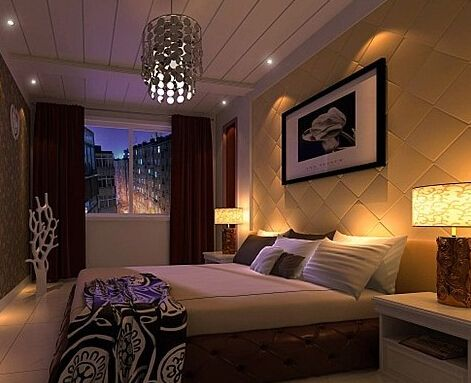床: (70, 269, 416, 376)
枕头: (238, 232, 403, 296)
灯: (410, 182, 470, 312), (140, 8, 205, 105), (210, 205, 244, 256), (215, 98, 228, 109), (27, 77, 38, 90), (261, 58, 272, 69)
